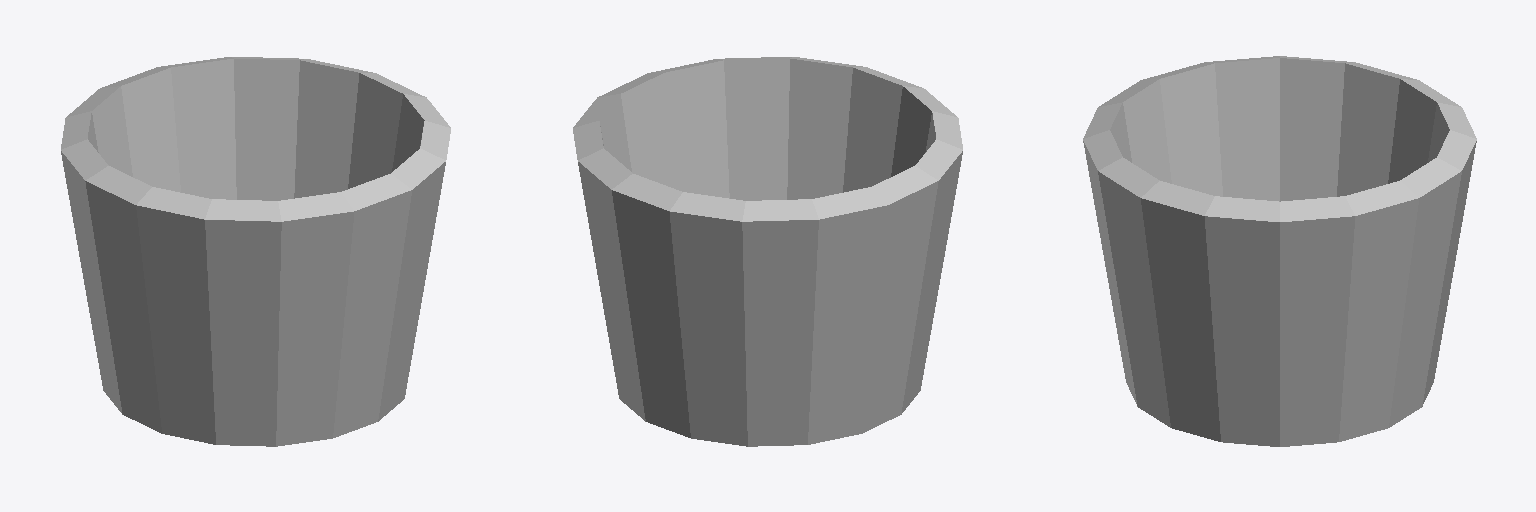
File: pailbody.obj
3 renders of one model, left to right at view 1: azimuth 30°, elevation 25°; view 2: azimuth 150°, elevation 25°; view 3: azimuth 270°, elevation 25°, orthographic.
Visible parts, largest first — view 1: Pail_Cylinder.001; view 2: Pail_Cylinder.001; view 3: Pail_Cylinder.001.
Part boxes in pixels (x1,y1,x2,y2): Pail_Cylinder.001: (61,57,450,446); Pail_Cylinder.001: (573,57,962,446); Pail_Cylinder.001: (1083,56,1476,446).
Size of the model in its own units: 2 by 1.41 by 2.